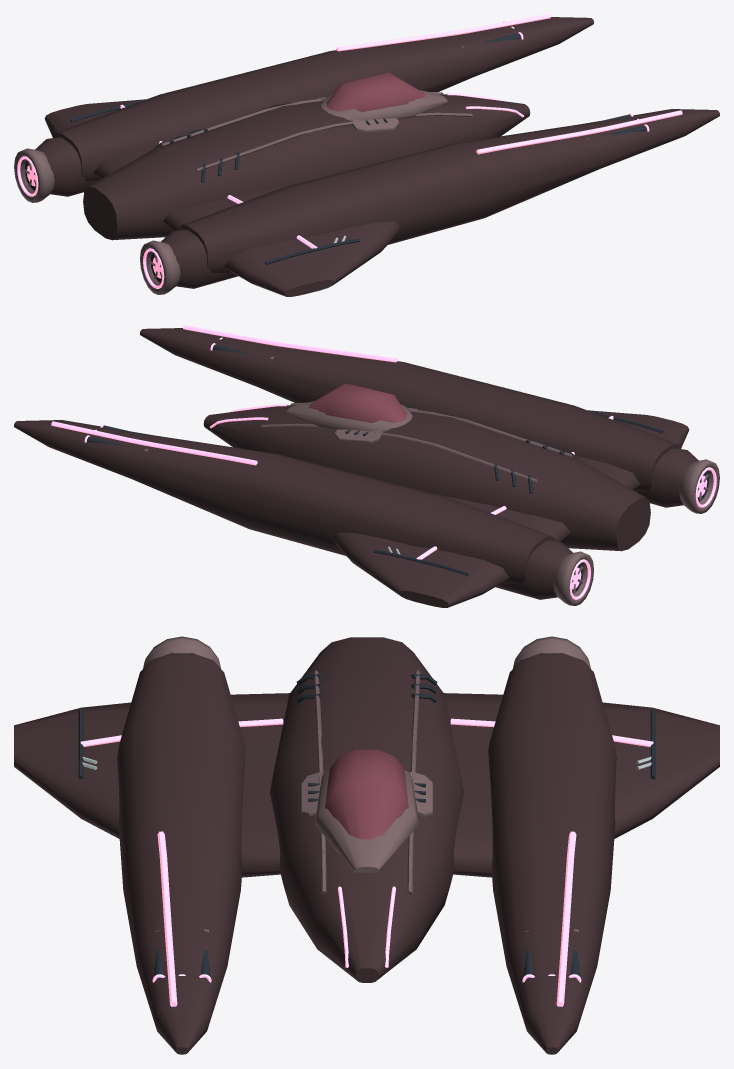
File: harrier.glb
3 views of the same model, one above another, from view 1: azimuth 30°, elevation 25°; view 2: azimuth 150°, elevation 25°; view 3: azimuth 270°, elevation 25° (orthographic). The views are drawn at different scales.
Parts seen in each view (by area): view 1: hull Hull paint, wing Hull paint, hull Brushed panel alloy, engine Brushed panel alloy, hull Smoked canopy, hull Hull guidance, engine Hull guidance, wing Graphite heat armour; view 2: hull Hull paint, wing Hull paint, hull Brushed panel alloy, engine Brushed panel alloy, hull Hull guidance, hull Smoked canopy, engine Hull guidance, wing Graphite heat armour; view 3: hull Hull paint, wing Hull paint, hull Brushed panel alloy, hull Smoked canopy, hull Hull guidance, engine Brushed panel alloy, wing Hull guidance, hull Graphite heat armour, wing Graphite heat armour, mount Graphite heat armour.
Part boxes in pixels (x1=…): hull Hull paint: x1=35, y1=17, x2=719, y2=288; wing Hull paint: x1=44, y1=99, x2=401, y2=296; hull Brushed panel alloy: x1=161, y1=90, x2=472, y2=171; engine Brushed panel alloy: x1=14, y1=148, x2=180, y2=294; hull Smoked canopy: x1=326, y1=72, x2=425, y2=111; hull Hull guidance: x1=336, y1=14, x2=682, y2=154; engine Hull guidance: x1=17, y1=156, x2=164, y2=288; wing Graphite heat armour: x1=70, y1=100, x2=360, y2=264; hull Hull paint: x1=14, y1=328, x2=698, y2=599; wing Hull paint: x1=332, y1=410, x2=689, y2=607; hull Brushed panel alloy: x1=261, y1=401, x2=572, y2=482; engine Brushed panel alloy: x1=553, y1=459, x2=719, y2=605; hull Hull guidance: x1=51, y1=325, x2=397, y2=465; hull Smoked canopy: x1=309, y1=383, x2=407, y2=422; engine Hull guidance: x1=569, y1=467, x2=716, y2=599; wing Graphite heat armour: x1=373, y1=411, x2=663, y2=575; hull Hull paint: x1=117, y1=637, x2=616, y2=1054; wing Hull paint: x1=14, y1=693, x2=719, y2=877; hull Brushed panel alloy: x1=301, y1=670, x2=432, y2=894; hull Smoked canopy: x1=325, y1=749, x2=408, y2=839; hull Hull guidance: x1=157, y1=831, x2=576, y2=1006; engine Brushed panel alloy: x1=143, y1=636, x2=590, y2=668; wing Hull guidance: x1=80, y1=718, x2=653, y2=747; hull Graphite heat armour: x1=296, y1=674, x2=437, y2=802; wing Graphite heat armour: x1=78, y1=709, x2=655, y2=779; mount Graphite heat armour: x1=154, y1=949, x2=579, y2=978.
Bounding box in the file's own units: 57.02 × 9.65 × 42.
